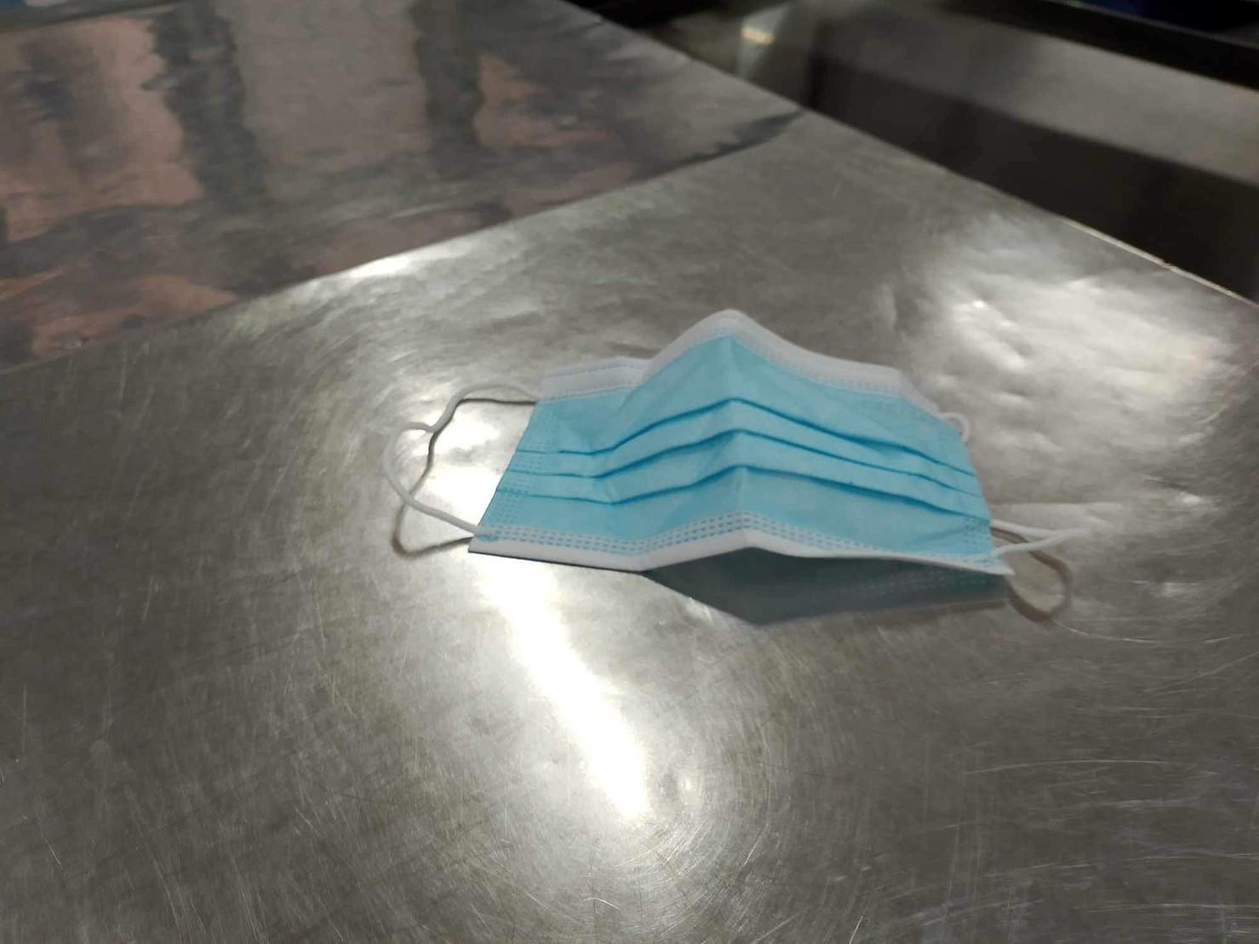General: (381, 305, 1077, 626)
